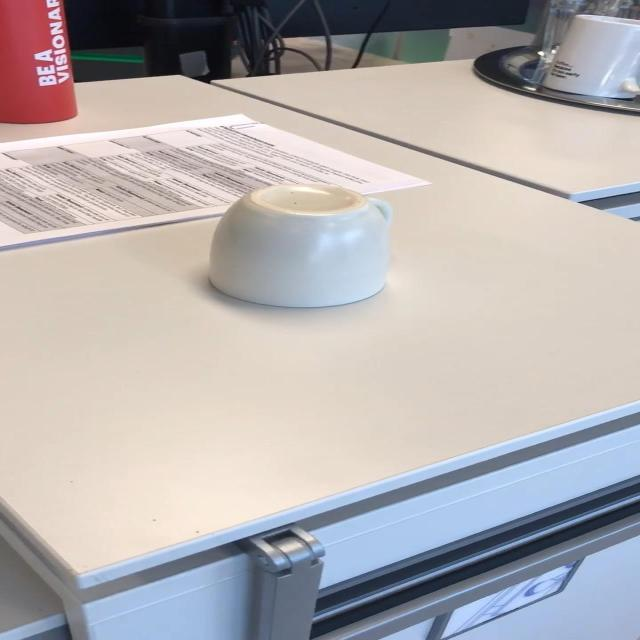cup: (210, 184, 392, 308)
